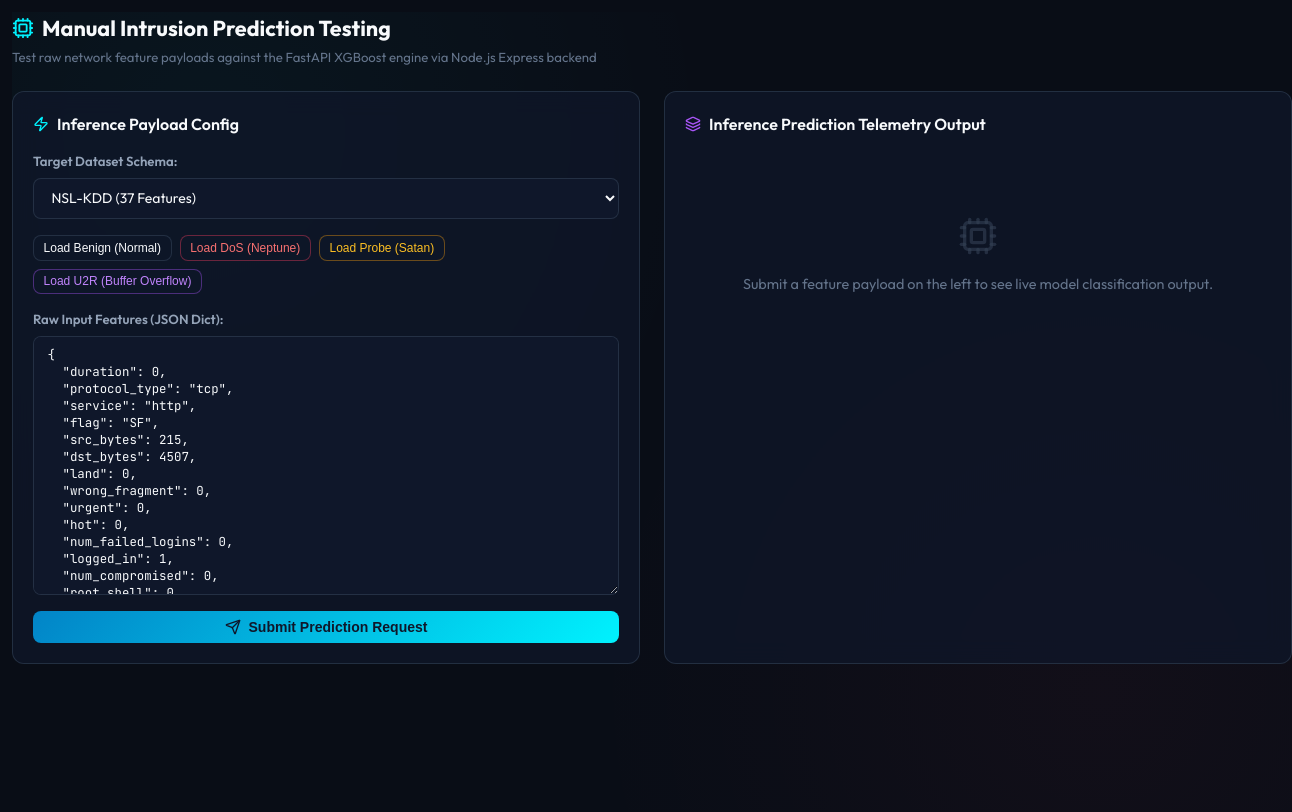
PHASE 20.5: Manual CICIDS2017 DoS Hulk Prediction Integrity Audit Tests › submitting DoS Hulk prediction sends correct datasetType and sourceInfo groundTruth
# Switch to CICIDS2017
Select "CICIDS2017 (43 Features)" in the dropdown at (326, 198), box top-left (33, 178), bottom-right (619, 219)
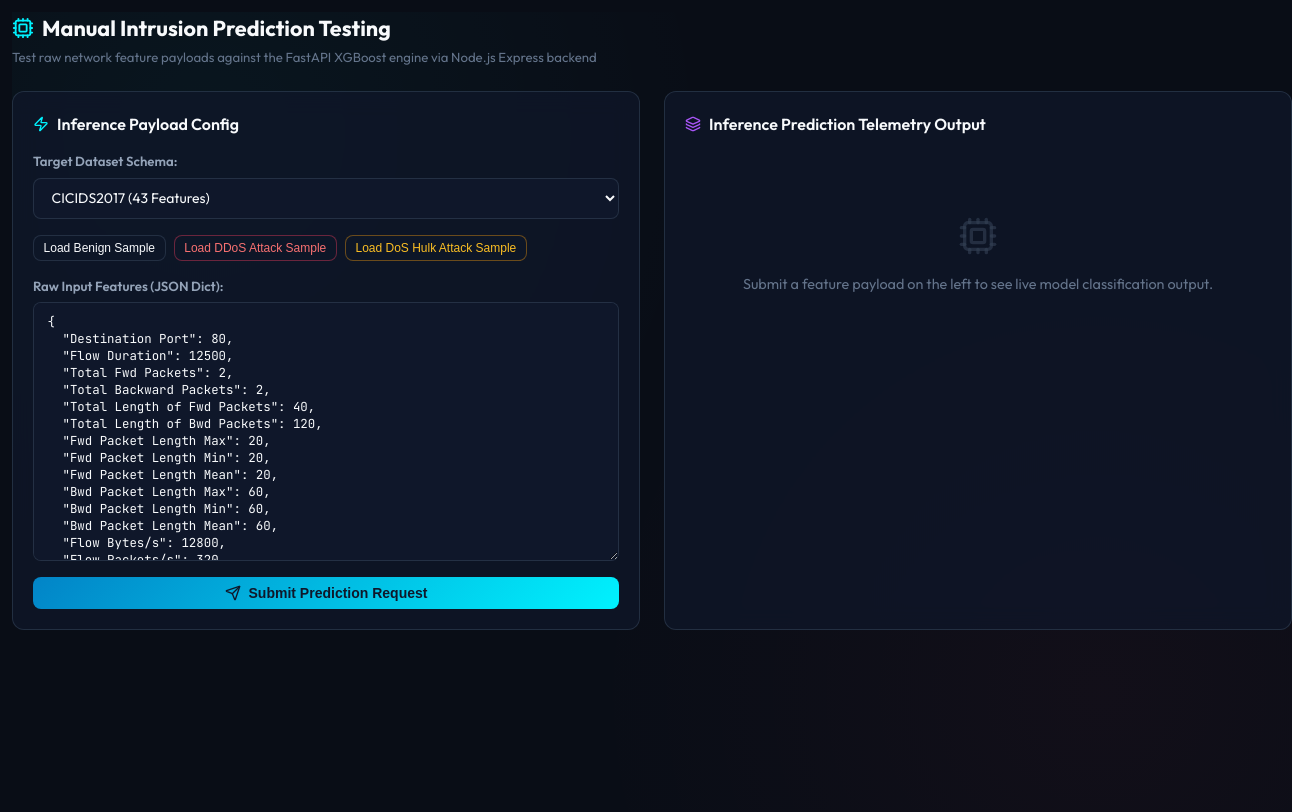
# Click Hulk preset
Click the button "Load DoS Hulk Attack Sample".
click(436, 248)  # box top-left (345, 235), bottom-right (527, 261)
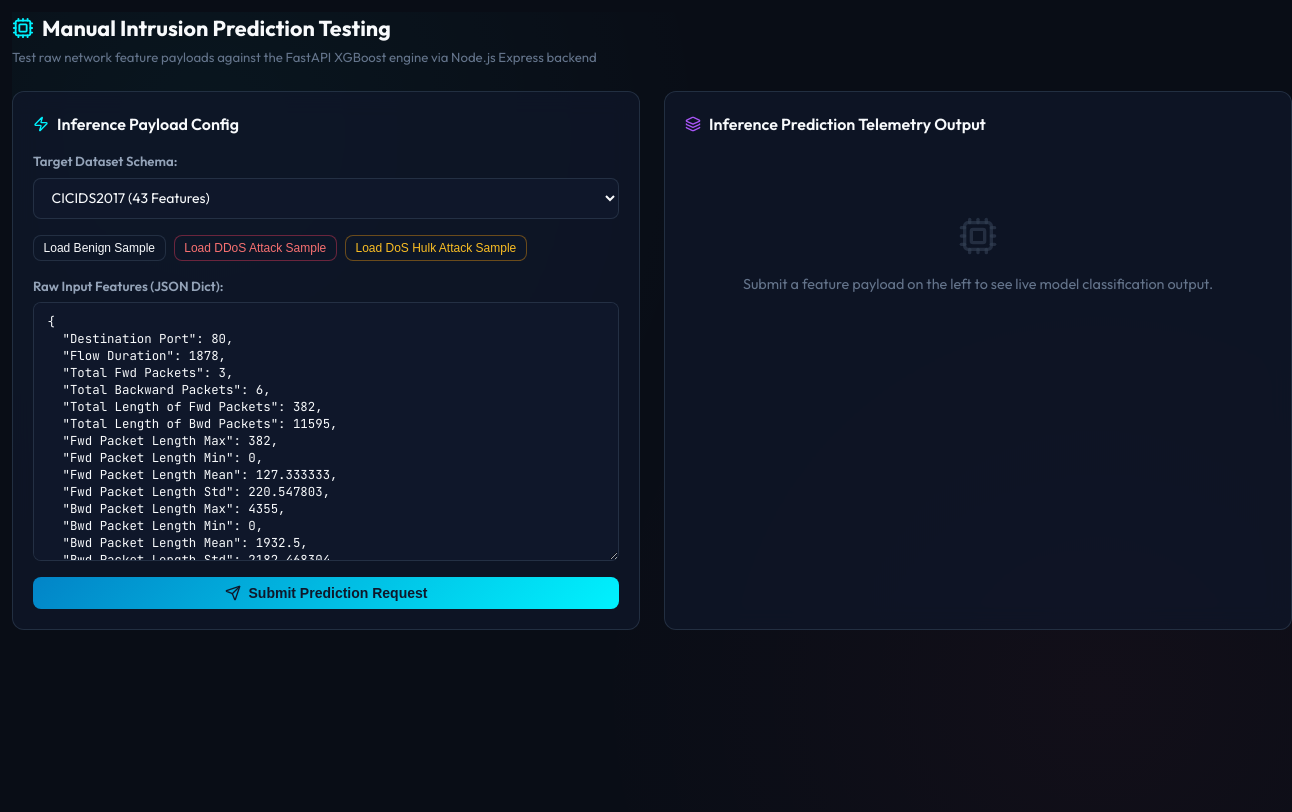
Click the button "Submit Prediction Request".
click(326, 593)  # box top-left (33, 577), bottom-right (619, 609)
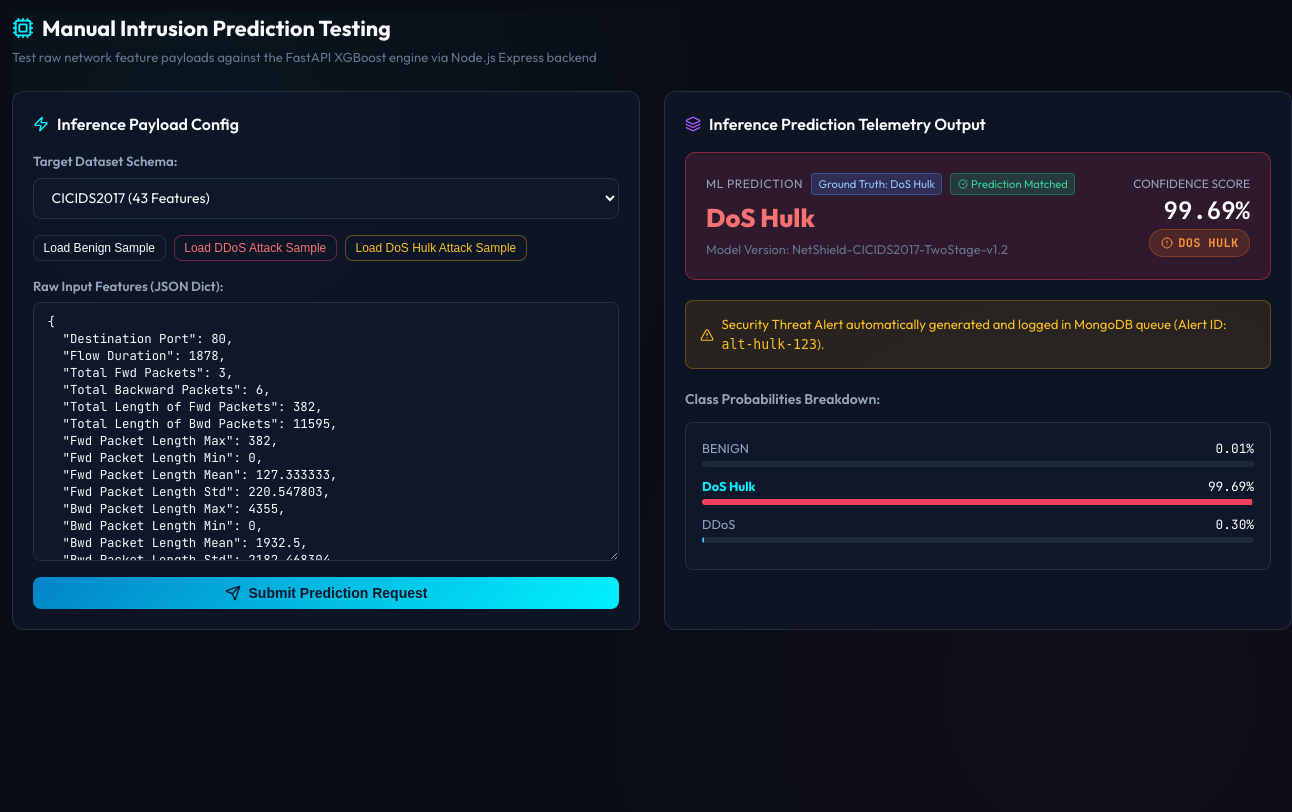
Expected: the text "DoS Hulk" below "ML Prediction" is shown, top-left (706, 200), bottom-right (815, 234)
Expected: the text "Prediction Matched" is shown, top-left (950, 173), bottom-right (1075, 195)
Expected: the text "99.69%" below "Confidence Score" is shown, top-left (1164, 195), bottom-right (1250, 226)
